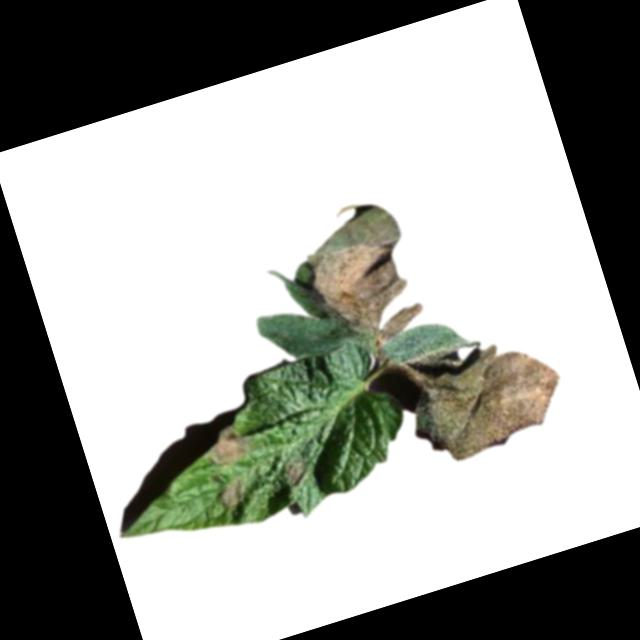Late_blight: (395, 325, 573, 472), (289, 194, 431, 360), (203, 424, 251, 471), (213, 479, 248, 513), (280, 460, 306, 489)
